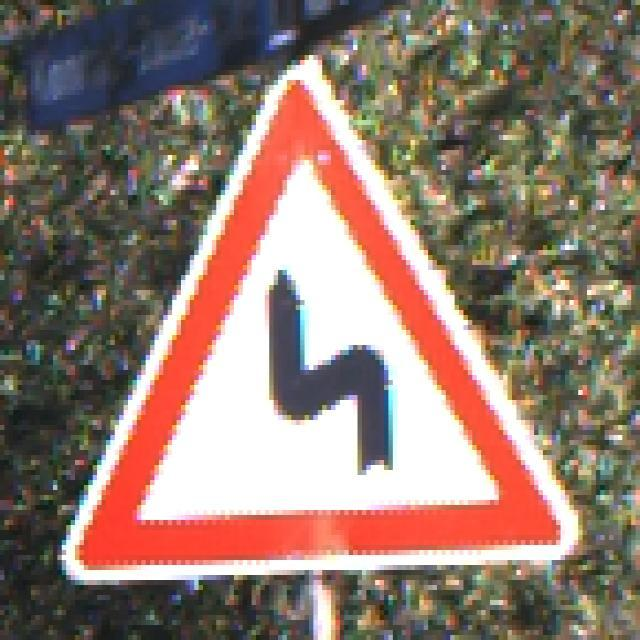left reverse bend: (60, 59, 585, 572)
